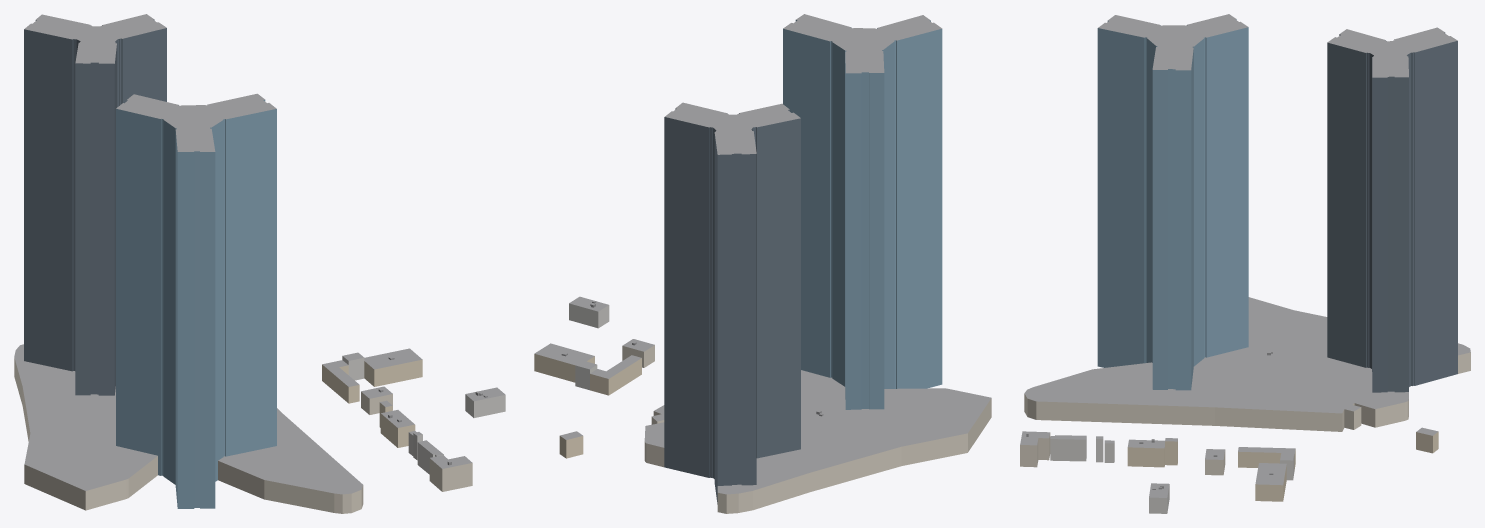
File: building_-1_-3.glb
The picture shows the model from 3 angles, left to right: view 1: azimuth 30°, elevation 25°; view 2: azimuth 150°, elevation 25°; view 3: azimuth 270°, elevation 25°; orthographic projection. The views are drawn at different scales.
Parts seen in each view (by area): view 1: glass_blue, glass_dark, roof, concrete_warm, sandstone, concrete_light; view 2: glass_blue, glass_dark, roof, concrete_warm, sandstone, concrete_light; view 3: glass_blue, glass_dark, roof, concrete_warm, sandstone, concrete_light.
Part boxes in pixels (x1,y1,x2,y2): glass_blue: (116, 100, 276, 508); glass_dark: (24, 19, 166, 395); roof: (14, 14, 505, 494); concrete_warm: (14, 358, 472, 513); sandstone: (322, 359, 422, 447); concrete_light: (342, 356, 505, 474); glass_blue: (783, 20, 942, 409); glass_dark: (664, 108, 800, 504); roof: (534, 14, 991, 494); concrete_warm: (622, 345, 991, 513); sandstone: (534, 354, 641, 458); concrete_light: (569, 303, 609, 390); glass_blue: (1097, 19, 1248, 390); glass_dark: (1327, 32, 1457, 392); roof: (1020, 14, 1470, 497); concrete_warm: (1020, 352, 1470, 475); sandstone: (1127, 431, 1438, 501); concrete_light: (1050, 437, 1294, 513).
Size of the model in its own units: 280 by 219 by 264.
